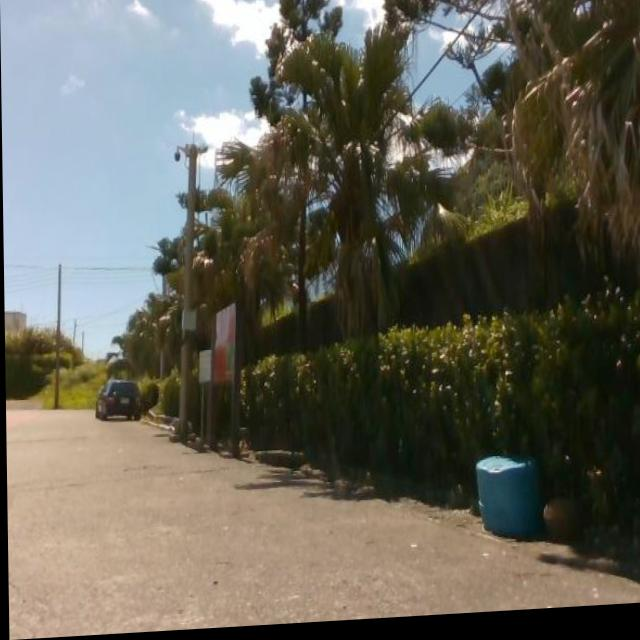pollute: (468, 459, 544, 550)
